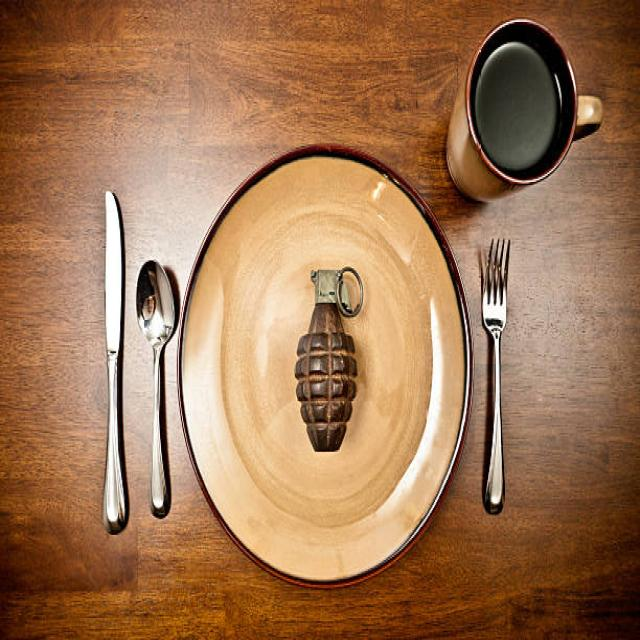grenade: (289, 261, 372, 461)
